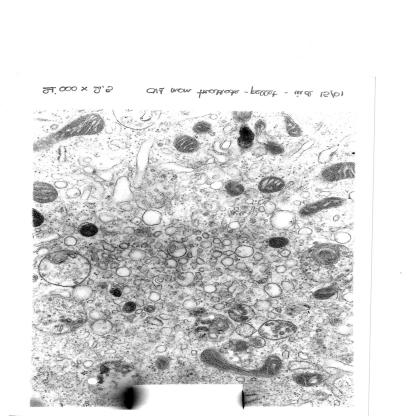mitochondria: (200, 348, 283, 378), (51, 114, 105, 143), (298, 196, 344, 218), (321, 161, 355, 183), (172, 134, 202, 154), (33, 181, 59, 204), (258, 175, 286, 194), (285, 116, 303, 138), (223, 181, 246, 197), (191, 121, 214, 134)
